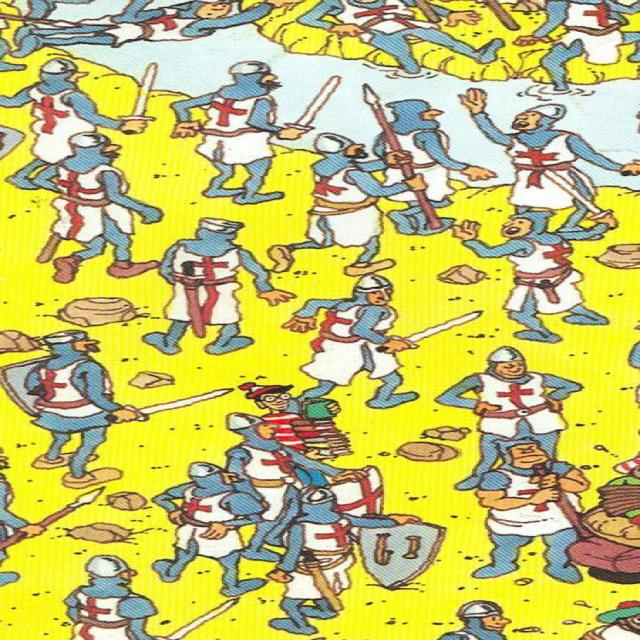waldo: (238, 382, 294, 411)
